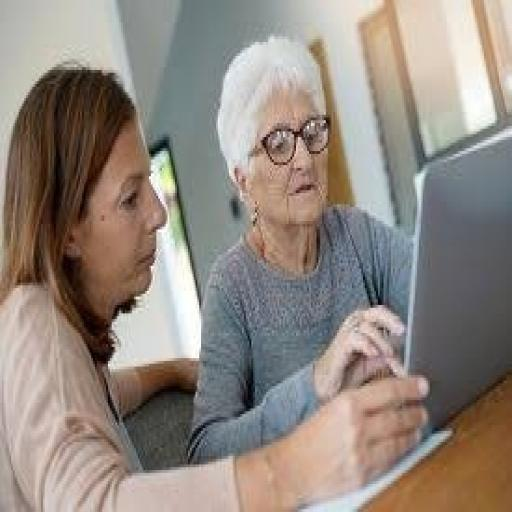using_laptop: (294, 120, 510, 510)
